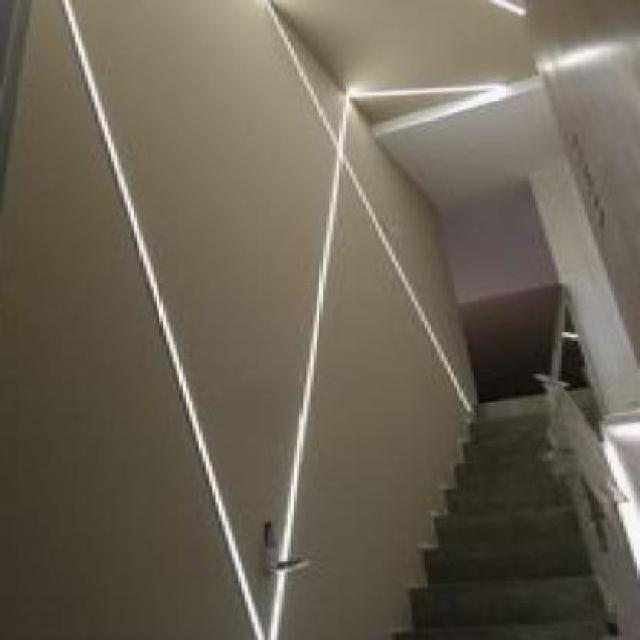stair: (326, 368, 640, 638)
